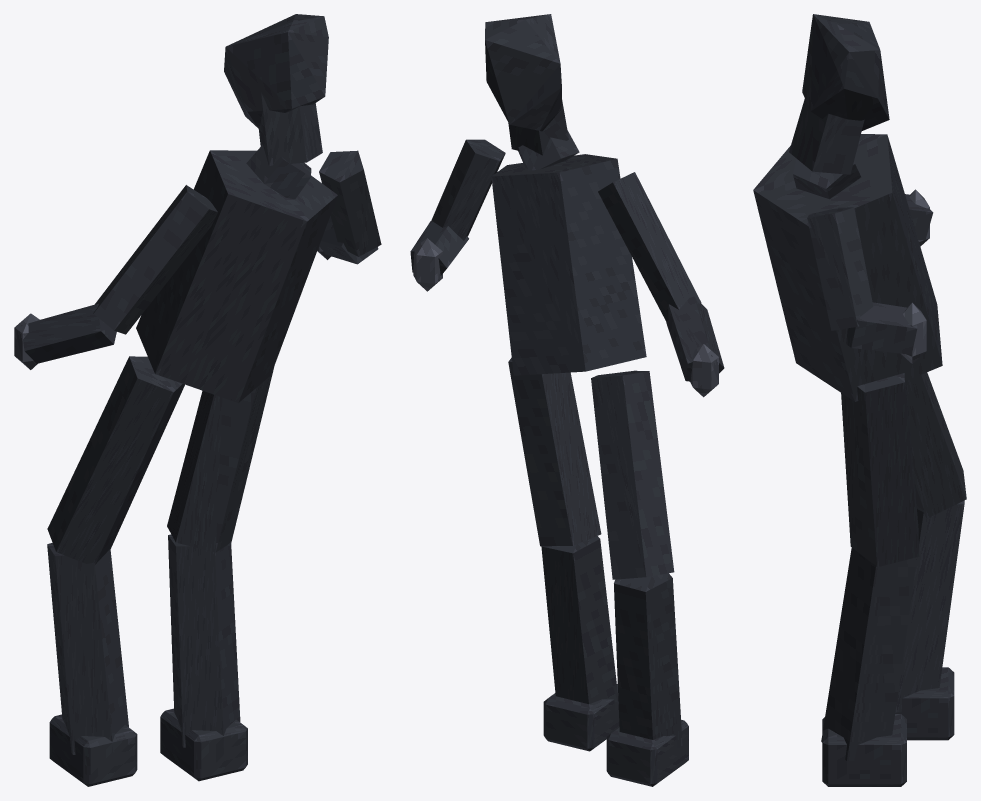
File: f_glassedbody_6.glb
3 views of the same model, side by side, from view 1: azimuth 30°, elevation 25°; view 2: azimuth 150°, elevation 25°; view 3: azimuth 270°, elevation 25° (orthographic). The views are drawn at different scales.
Parts seen in each view (by area): view 1: block_angular-torso-1, block_faceted-glass-leg-1 (×2), block_faceted-glass-leg-2 (×2), block_angular-glass-arm-1 (×2), block_angular-black-glass-head, block_solid-glass-foot (×2), block_angular-glass-arm-2 (×2), block_vitrified-neck-2, block_vitrified-neck-1, block_glass-hand; view 2: block_angular-torso-1, block_faceted-glass-leg-2 (×2), block_faceted-glass-leg-1 (×2), block_angular-glass-arm-1 (×2), block_angular-black-glass-head, block_solid-glass-foot (×2), block_angular-glass-arm-2 (×2), block_glass-hand (×2), block_vitrified-neck-2, block_vitrified-neck-1; view 3: block_angular-torso-1, block_faceted-glass-leg-1 (×2), block_faceted-glass-leg-2 (×2), block_angular-black-glass-head, block_solid-glass-foot (×2), block_angular-glass-arm-1, block_vitrified-neck-2, block_angular-glass-arm-2 (×2), block_vitrified-neck-1, block_glass-hand.
Part boxes in pixels (bbox=[...]): block_angular-torso-1: bbox=[136, 150, 337, 402]; block_faceted-glass-leg-1 (×2): bbox=[47, 534, 240, 754]; block_faceted-glass-leg-2 (×2): bbox=[47, 356, 273, 564]; block_angular-glass-arm-1 (×2): bbox=[93, 150, 381, 334]; block_angular-black-glass-head: bbox=[224, 14, 328, 128]; block_solid-glass-foot (×2): bbox=[49, 708, 247, 786]; block_angular-glass-arm-2 (×2): bbox=[21, 216, 378, 363]; block_vitrified-neck-2: bbox=[258, 92, 322, 165]; block_vitrified-neck-1: bbox=[246, 144, 311, 199]; block_glass-hand: bbox=[14, 313, 39, 369]; block_angular-torso-1: bbox=[491, 154, 646, 375]; block_faceted-glass-leg-2 (×2): bbox=[508, 358, 674, 579]; block_faceted-glass-leg-1 (×2): bbox=[541, 536, 682, 747]; block_angular-glass-arm-1 (×2): bbox=[431, 139, 701, 321]; block_angular-black-glass-head: bbox=[485, 14, 561, 131]; block_solid-glass-foot (×2): bbox=[543, 684, 688, 786]; block_angular-glass-arm-2 (×2): bbox=[410, 221, 724, 381]; block_glass-hand (×2): bbox=[413, 238, 718, 397]; block_vitrified-neck-2: bbox=[508, 100, 568, 155]; block_vitrified-neck-1: bbox=[518, 130, 579, 170]; block_angular-torso-1: bbox=[753, 134, 942, 401]; block_faceted-glass-leg-1 (×2): bbox=[821, 500, 964, 760]; block_faceted-glass-leg-2 (×2): bbox=[841, 372, 966, 567]; block_angular-black-glass-head: bbox=[802, 14, 889, 130]; block_solid-glass-foot (×2): bbox=[822, 667, 954, 786]; block_angular-glass-arm-1: bbox=[807, 207, 873, 330]; block_vitrified-neck-2: bbox=[789, 98, 864, 174]; block_angular-glass-arm-2 (×2): bbox=[846, 194, 933, 354]; block_vitrified-neck-1: bbox=[793, 159, 861, 199]; block_glass-hand: bbox=[901, 302, 926, 363].
Bounding box in the file's own units: 0.7803 × 1.65 × 0.4017.
Materials: 1 (1 with a texture image).
